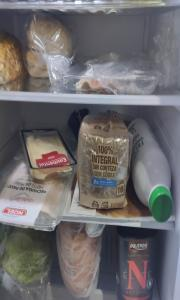Carne pavo: (0, 157, 72, 234)
Leche: (128, 118, 176, 224)
Lechuga/Endivia: (0, 232, 54, 297)
Pan de sandwich: (78, 116, 128, 213)
Pina: (0, 33, 24, 87)
Queso: (19, 124, 79, 183)
